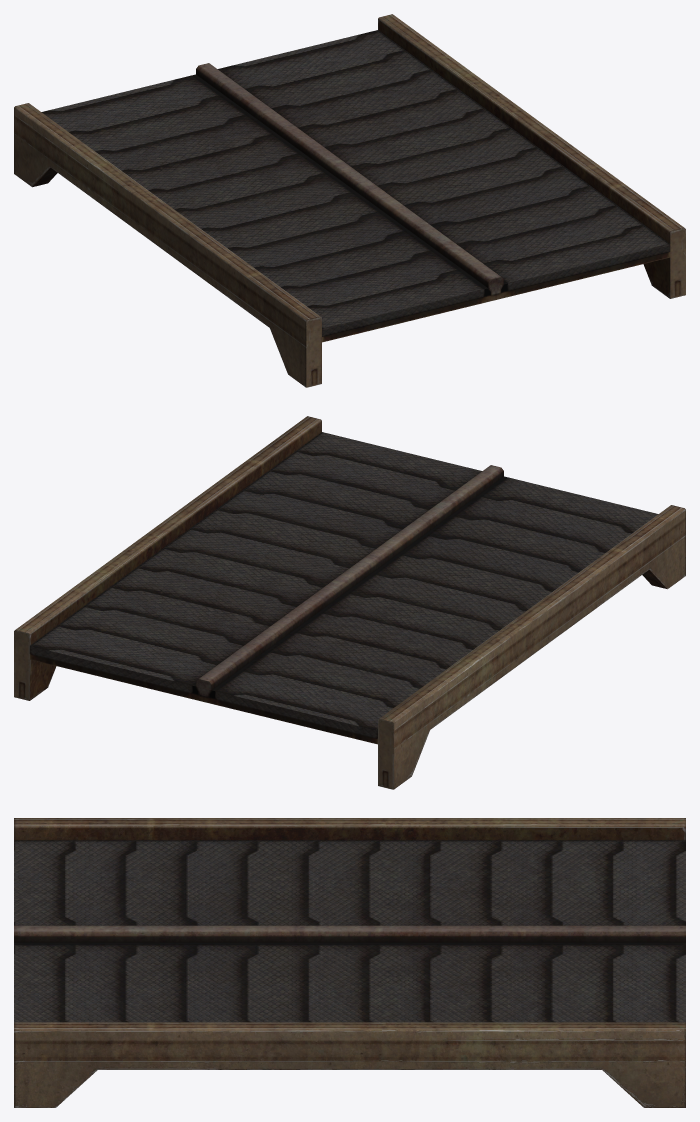
Rendered from 01_02_machine_room_track_straight_pplant.dae.
3 renders of one model, top to bottom at view 1: azimuth 30°, elevation 25°; view 2: azimuth 150°, elevation 25°; view 3: azimuth 270°, elevation 25°, orthographic. The views are drawn at different scales.
Parts seen in each view (by area): view 1: low_straight; view 2: low_straight; view 3: low_straight.
Boxes of the visible parts, box(x1,y1,x2,y2) form: low_straight: box(14, 14, 685, 387); low_straight: box(14, 416, 685, 789); low_straight: box(14, 818, 685, 1107).
Bounding box in the file's own units: 6 × 1.02 × 8.
